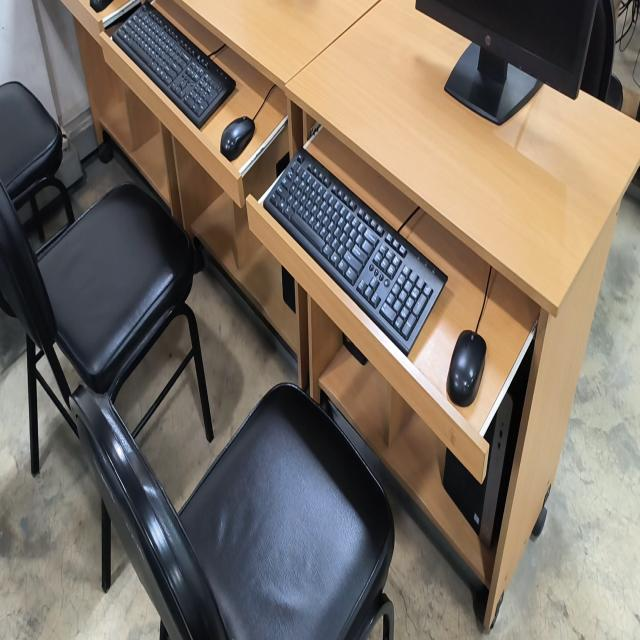Chair: (70, 384, 394, 639), (0, 181, 213, 474), (0, 81, 75, 242)
Cpu: (443, 395, 512, 548)
Keyboard: (266, 149, 447, 355), (112, 4, 235, 128)
Monitor: (416, 0, 598, 125)
Mouse: (446, 330, 486, 407), (220, 117, 255, 161)
